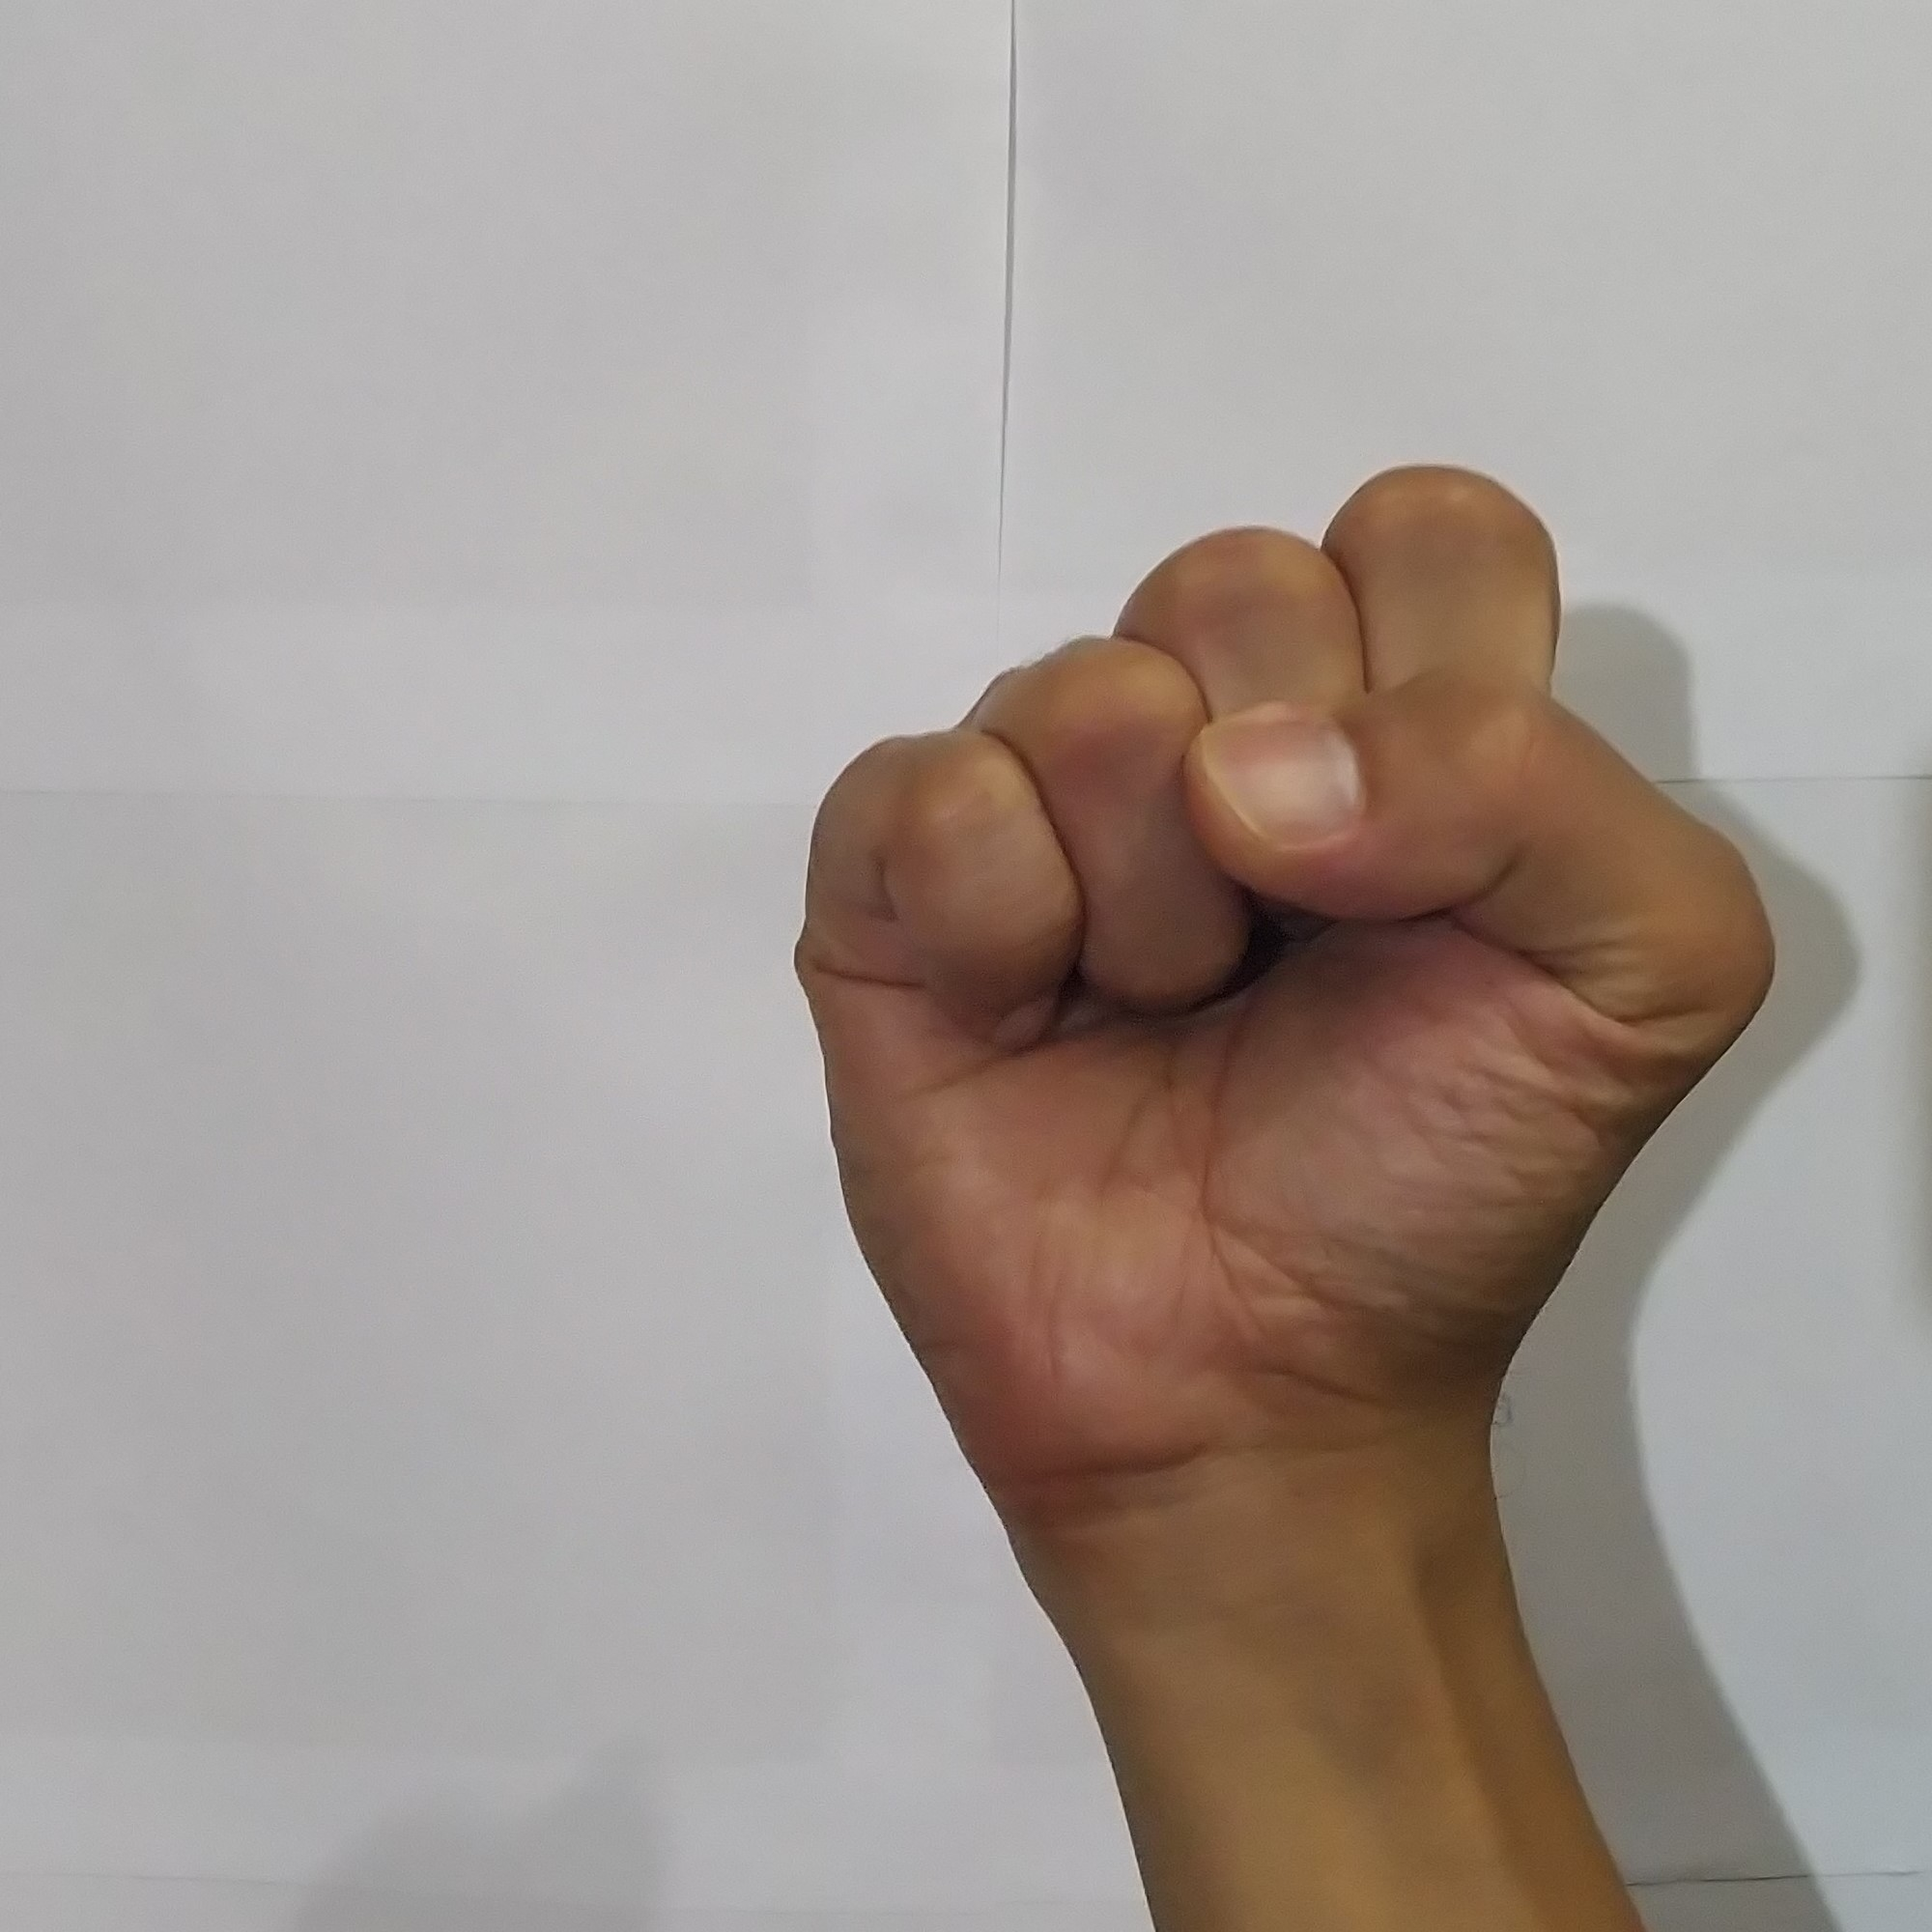S: (759, 435, 1805, 1453)
